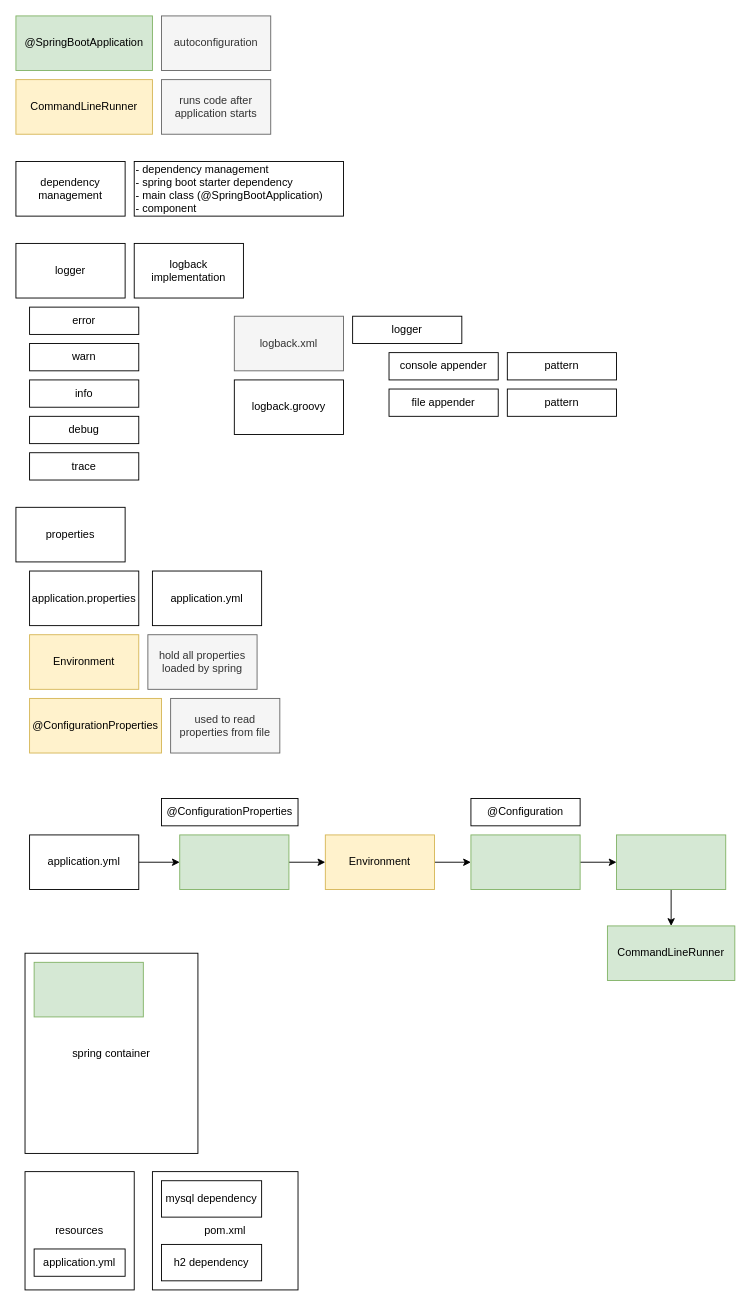
Image size: 751x1306. Some labels were removed from this diagram. Each missing label, with the centre of its shape:
"ApplicationProperties" goes at point (234, 862).
"CustomProperties" goes at point (671, 862).
"Datasource" goes at point (88, 989).
"EnvironmentConfig" goes at point (525, 862).
